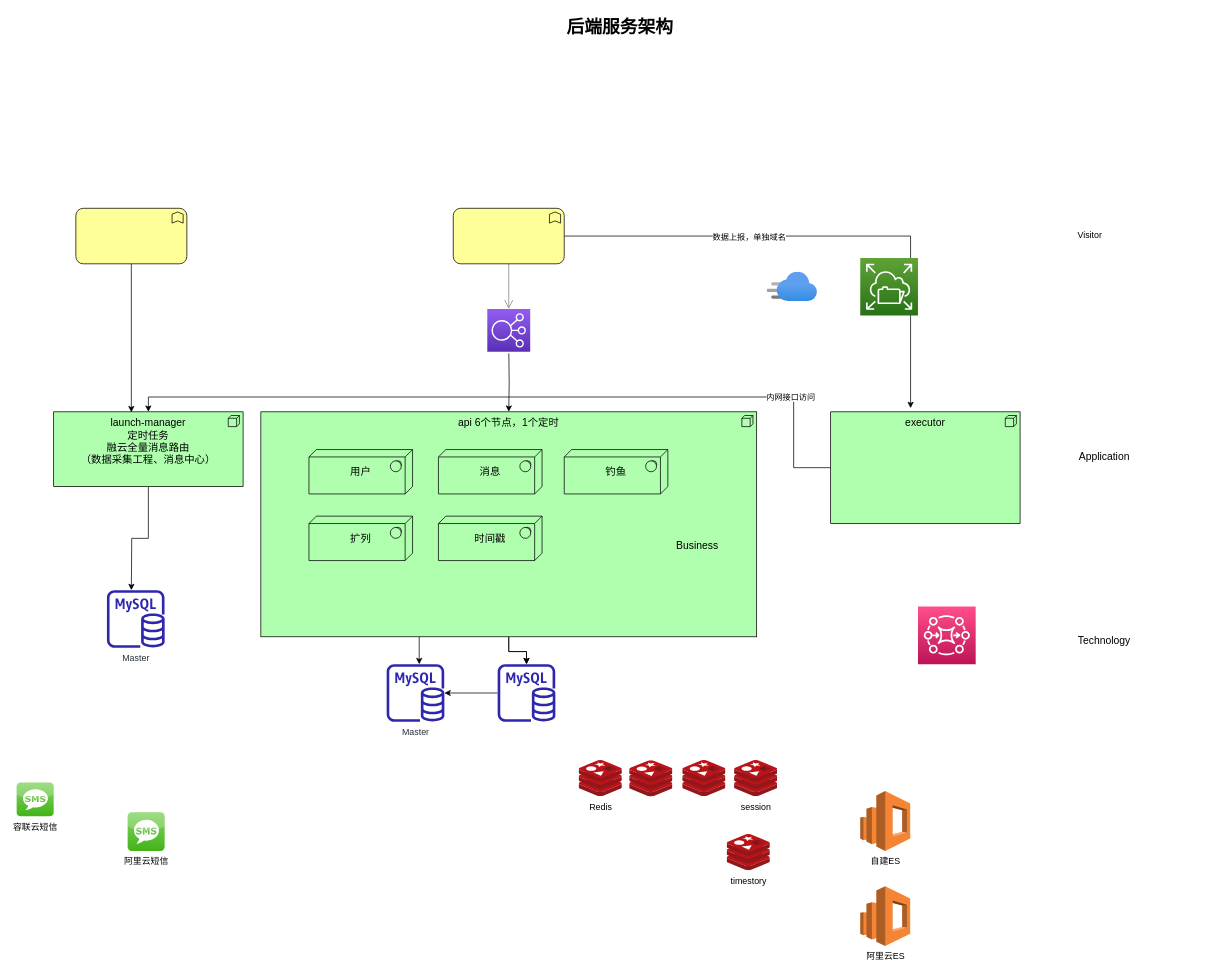
This 1220x974 diagram has some shape labels left out. Here are the shapes that lost their labels. From the top down, the centre of each, then its label:
At point (131, 236): "融云".
At point (508, 236): "APP".
At point (792, 286): "CDN".
At point (889, 286): "OSS".
At point (508, 330): "SLB".
At point (946, 635): "Rocket MQ".
At point (526, 693): "Slave".
